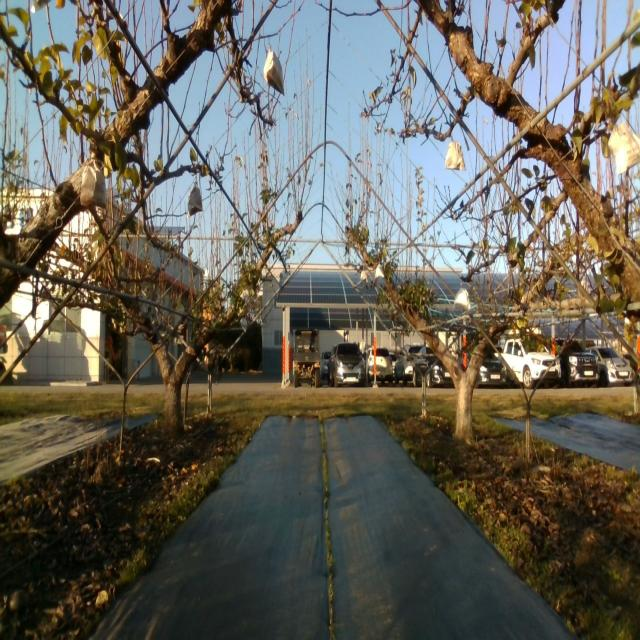pearbags: (609, 120, 640, 173), (80, 157, 107, 212), (264, 42, 285, 95), (444, 134, 466, 172), (187, 181, 203, 218), (453, 282, 470, 311)
